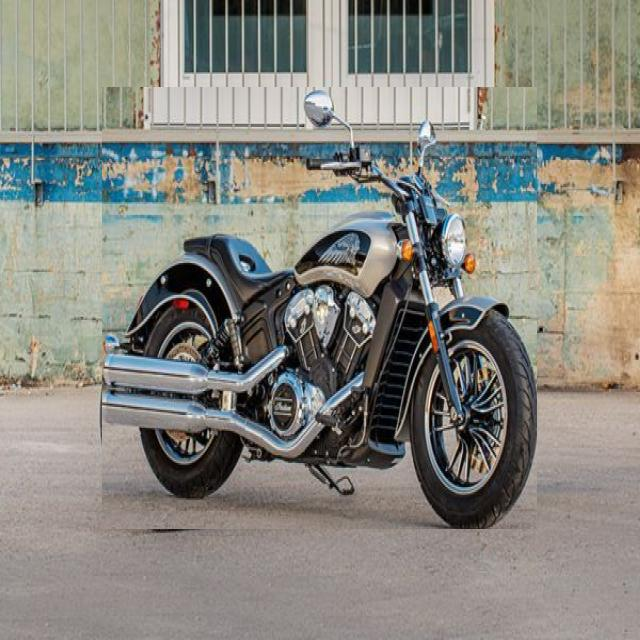motorcycle: (102, 88, 536, 529)
